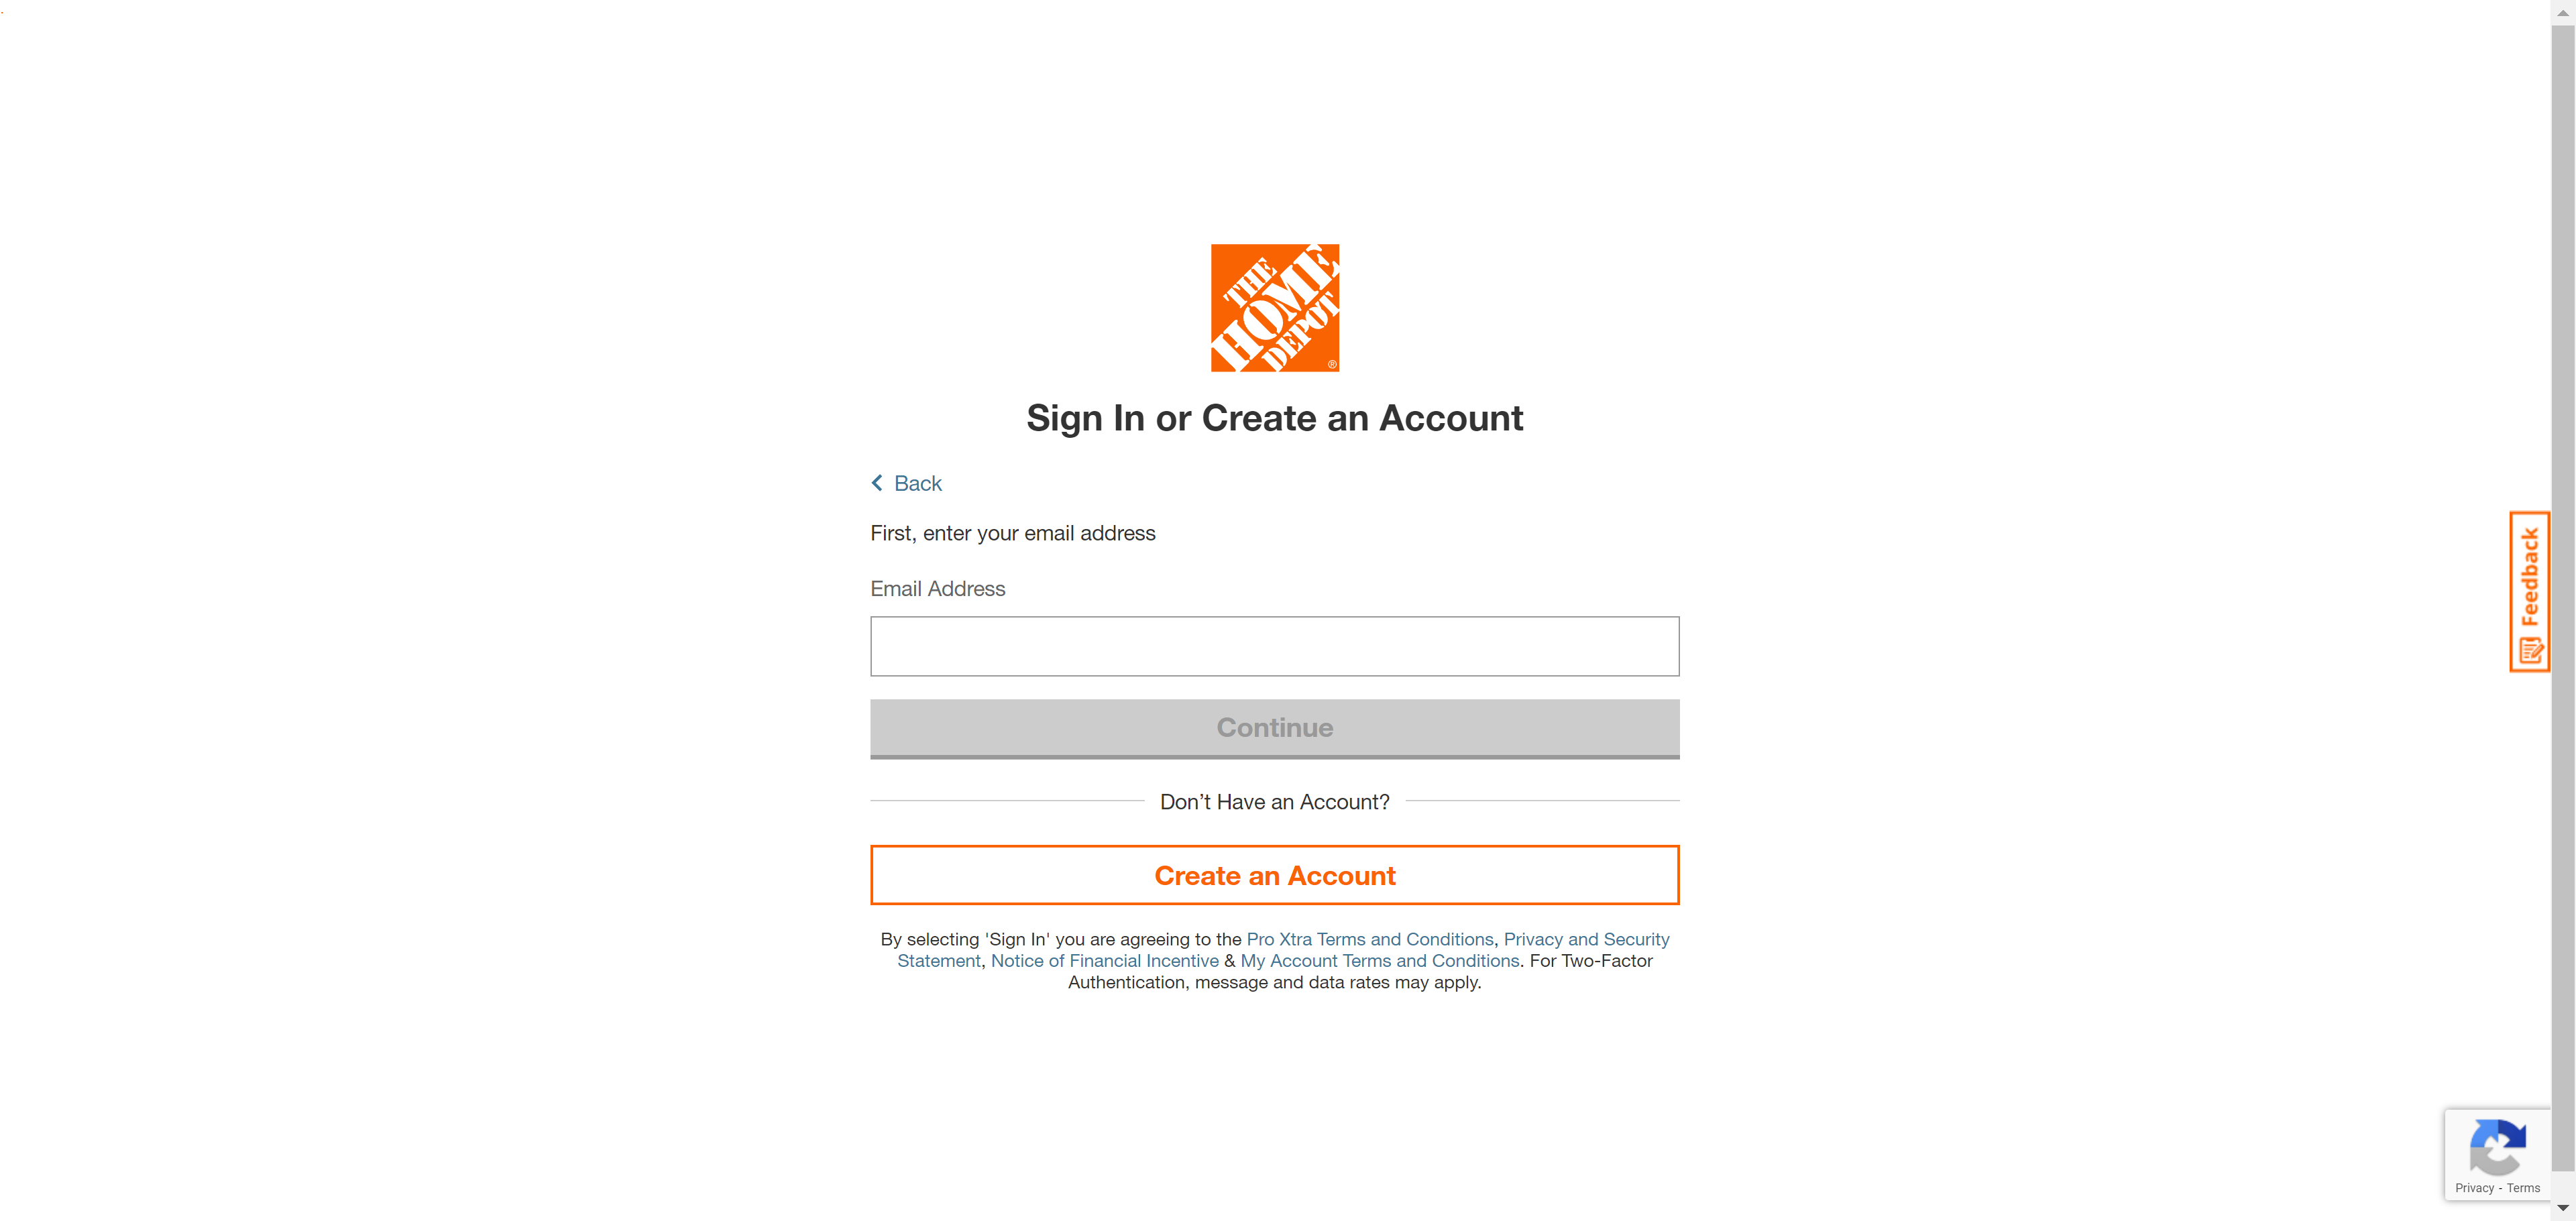login_button: (871, 700, 1681, 759)
login_form: (862, 572, 1687, 766)
